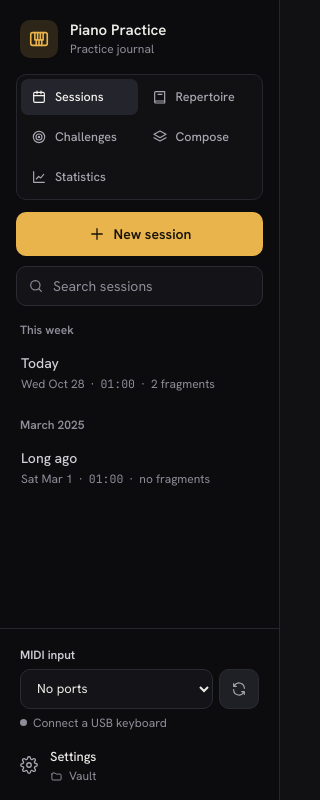
it: SidebarComponent › filters the sessions and says when nothing matches
Type "zzz" into the search field with id "session-filter" at [140, 286], box [16,266,263,306]
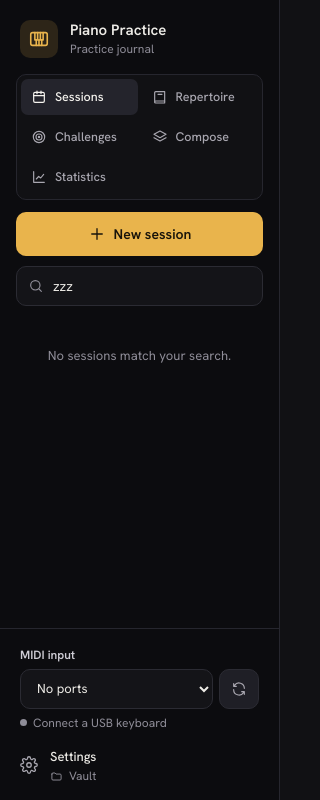
Expected: the text "No sessions match your search." is shown, [48,347,231,364]
